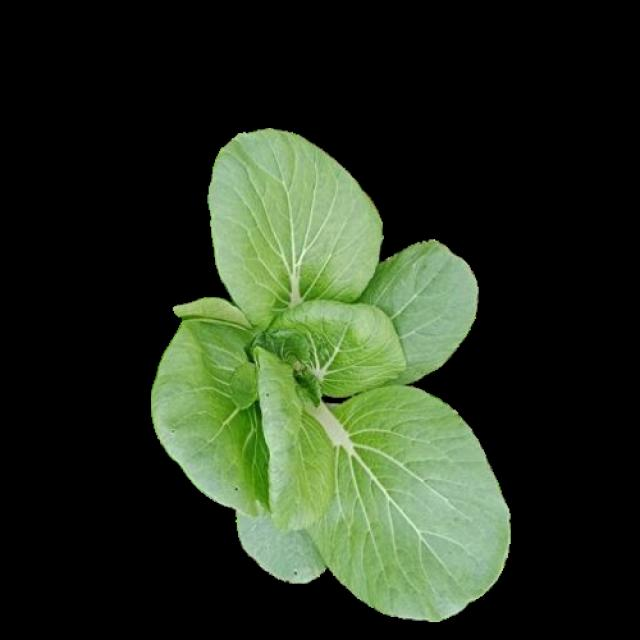mature: (152, 126, 506, 620)
unhealthy: (150, 123, 503, 617)
